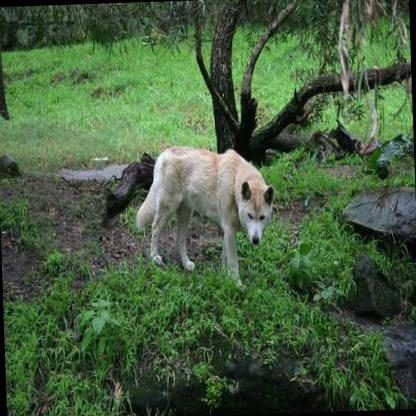dingo: (130, 138, 279, 292)
